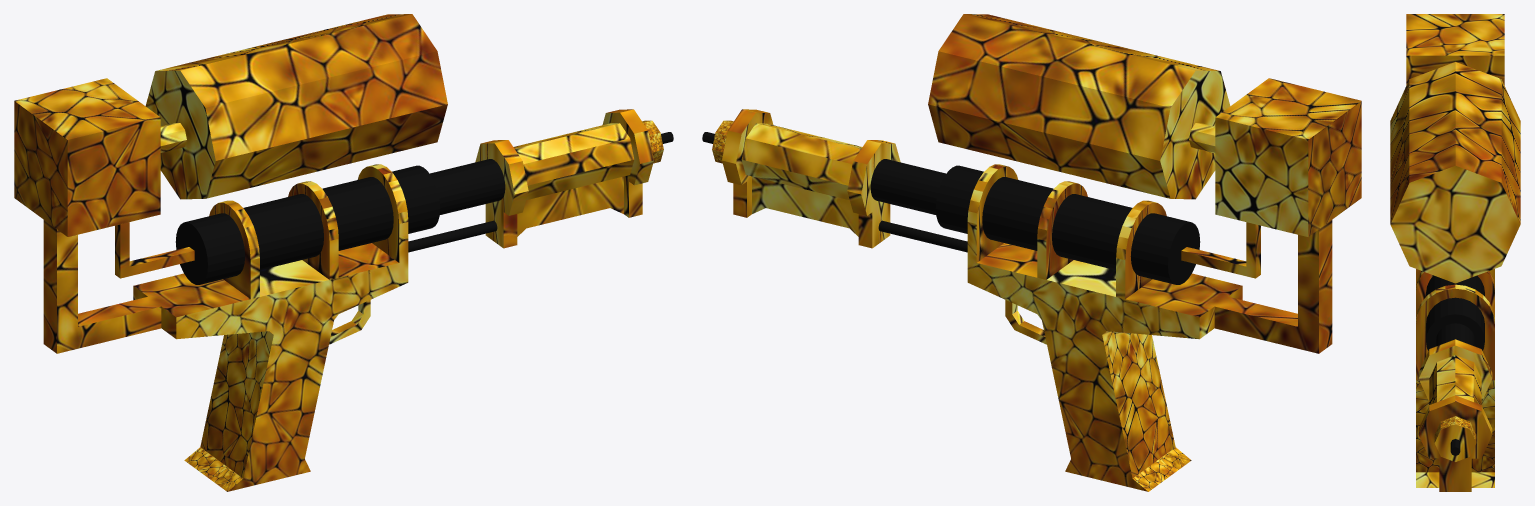
Rendered from Watergun_goldenneon.FBX.
3 views of the same model, side by side, from view 1: azimuth 30°, elevation 25°; view 2: azimuth 150°, elevation 25°; view 3: azimuth 270°, elevation 25° (orthographic). The views are drawn at different scales.
Visible parts, largest first — view 1: Depósito, Estructura, Empuñadura, Cubo depósito, Cilindro; view 2: Depósito, Estructura, Empuñadura, Cubo depósito, Cilindro; view 3: Depósito, Estructura, Cubo depósito, Cilindro, Empuñadura.
Boxes of the visible parts, x1,y1,x2,y2 form: Depósito: (145,14,447,199); Estructura: (43,109,663,353); Empuñadura: (176,222,408,491); Cubo depósito: (14,78,160,236); Cilindro: (175,132,673,284); Depósito: (928,14,1230,199); Estructura: (712,109,1332,353); Empuñadura: (967,222,1199,491); Cubo depósito: (1215,78,1361,236); Cilindro: (702,132,1200,284); Depósito: (1390,62,1520,283); Estructura: (1416,269,1494,491); Cubo depósito: (1406,14,1504,85); Cilindro: (1426,275,1484,455); Empuñadura: (1416,380,1494,487).
Bounding box in the file's own units: 13.57 × 8.47 × 2.65.
3 materials, 2 textured.
